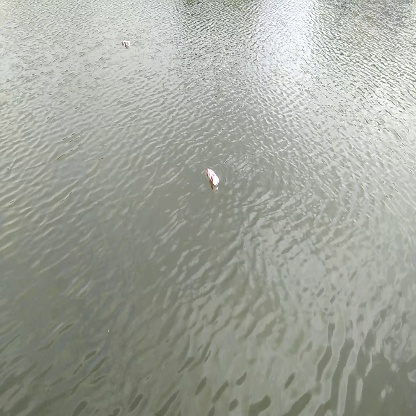bottle: (204, 164, 221, 190)
